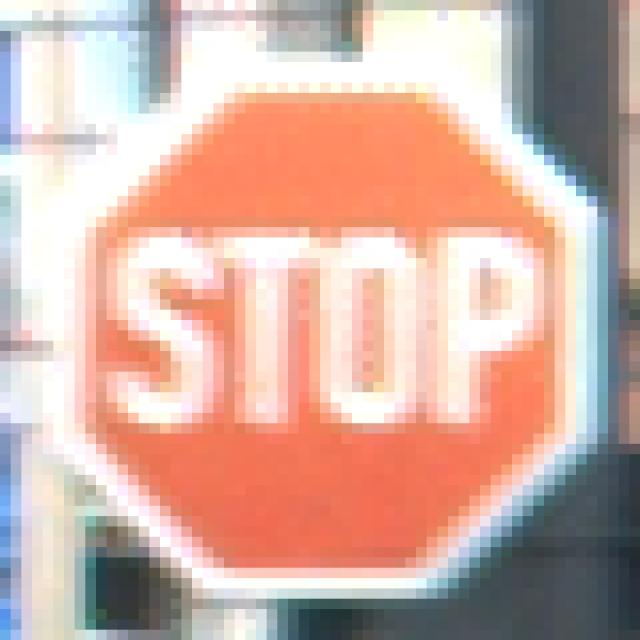STOP: (54, 53, 588, 579)
